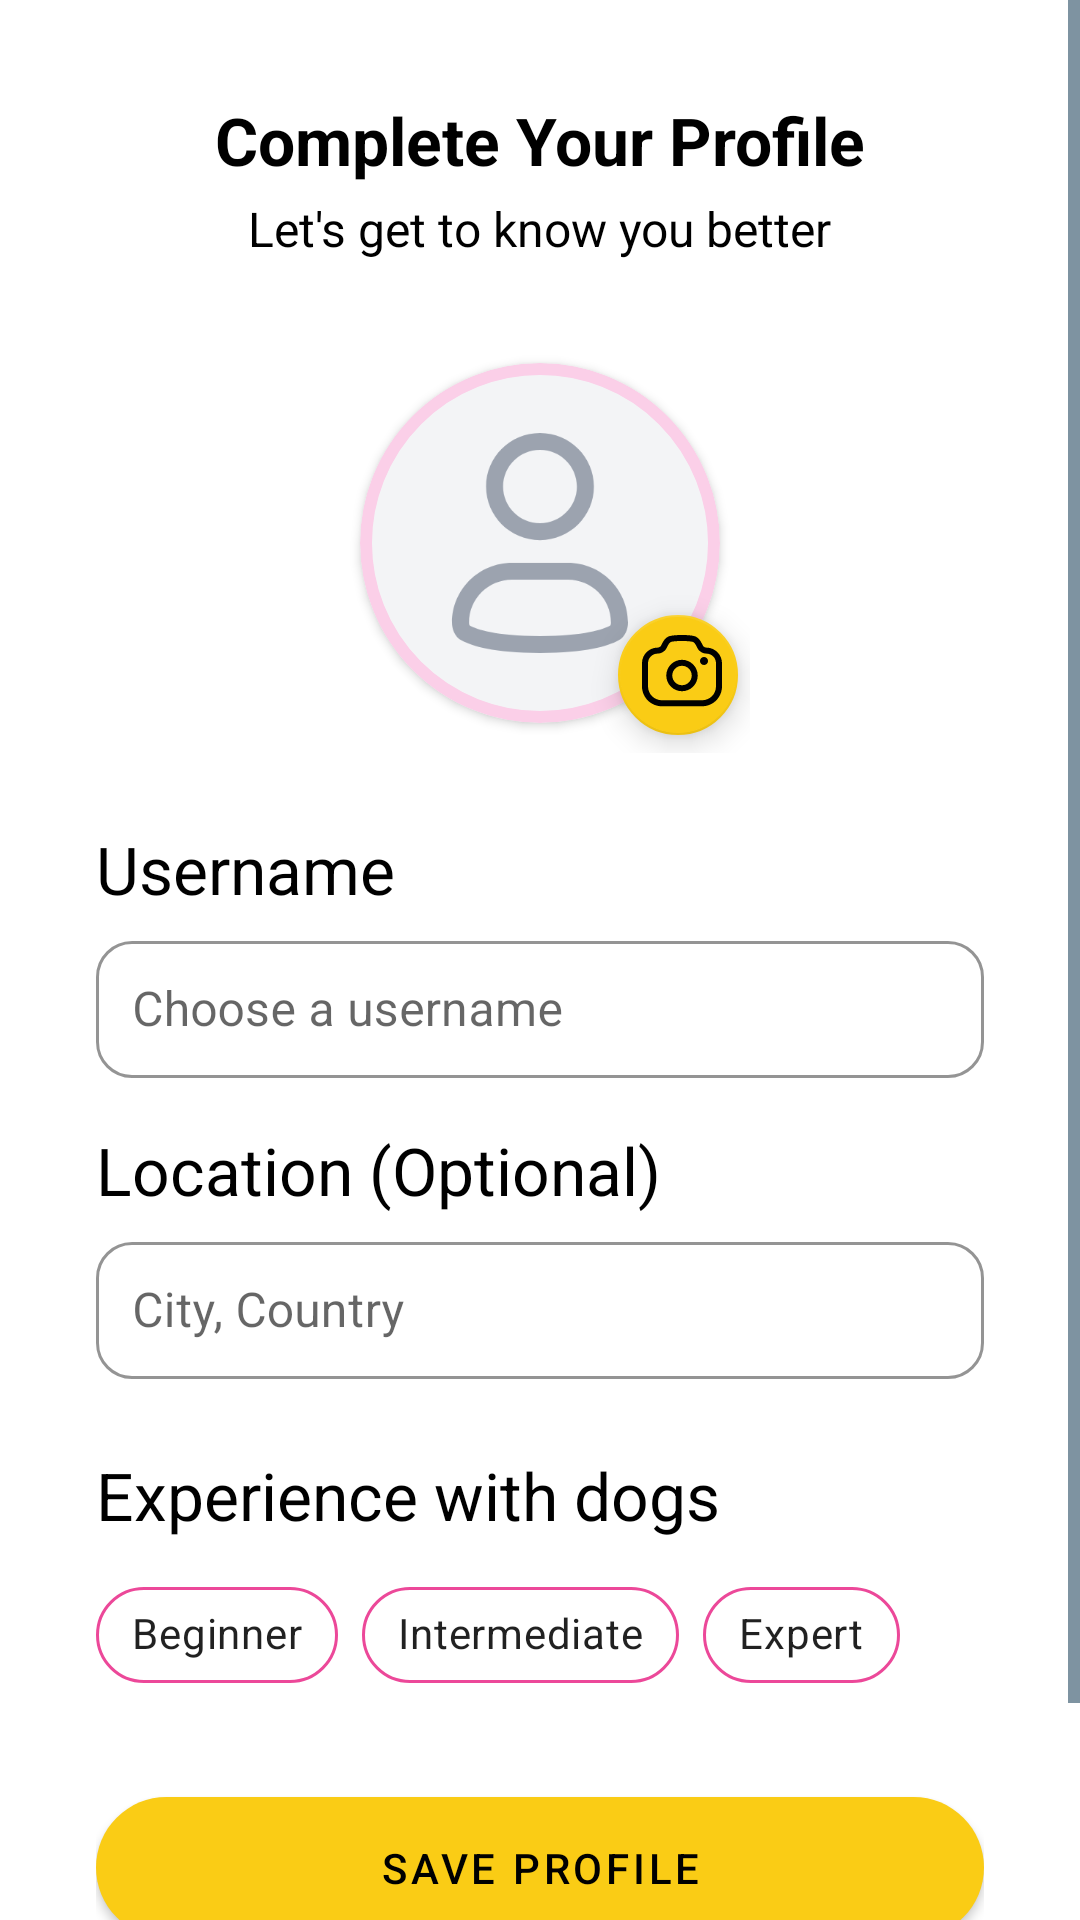

Screen size 1080px x 1920px. Icon name, then its center in pixels as (x=x, y=y):
Edit profile image: (x=672, y=671)
